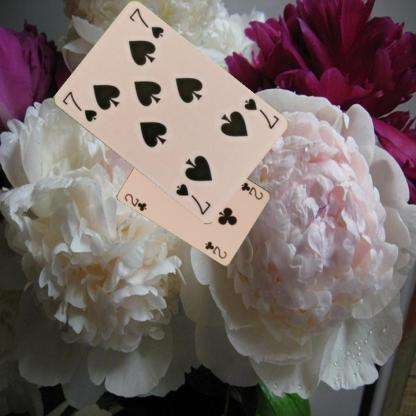2c: (122, 190, 148, 212), (238, 180, 264, 201)
7s: (59, 88, 98, 123), (241, 95, 280, 130)
